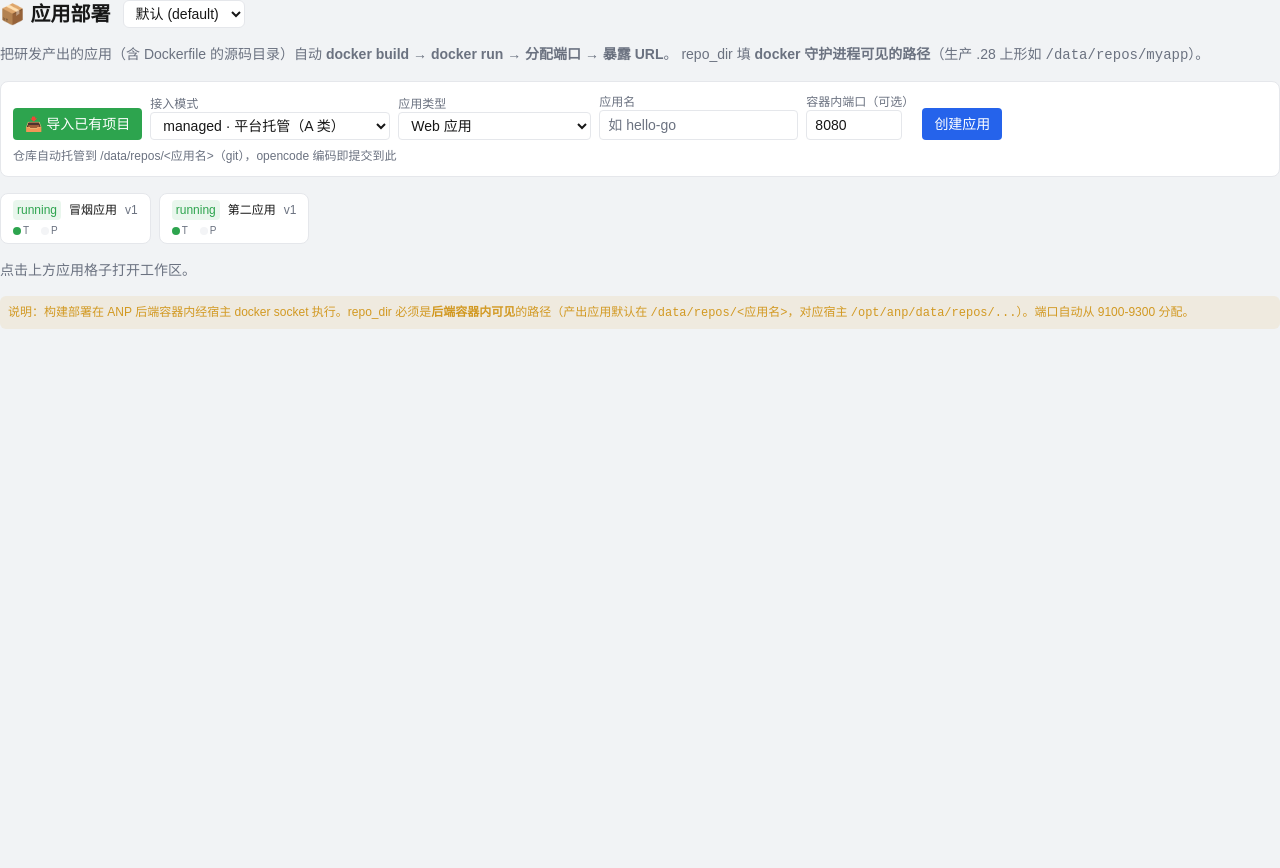
Scenario: ApplicationsPage tab 化壳 › A 开日志后切 B：B 不显示 A 的日志；回 A 再开日志正常
This screenshot has width=1280, height=868.
Expected: the element with test id "overview-bar" is shown, left=0, top=193, right=310, bottom=244
# 开 A tab → 点工具行「日志」（app-tab-panel 工具行按钮）→ 日志面板出现
Click the text "冒烟应用" at (93, 210), box left=69, top=202, right=117, bottom=218
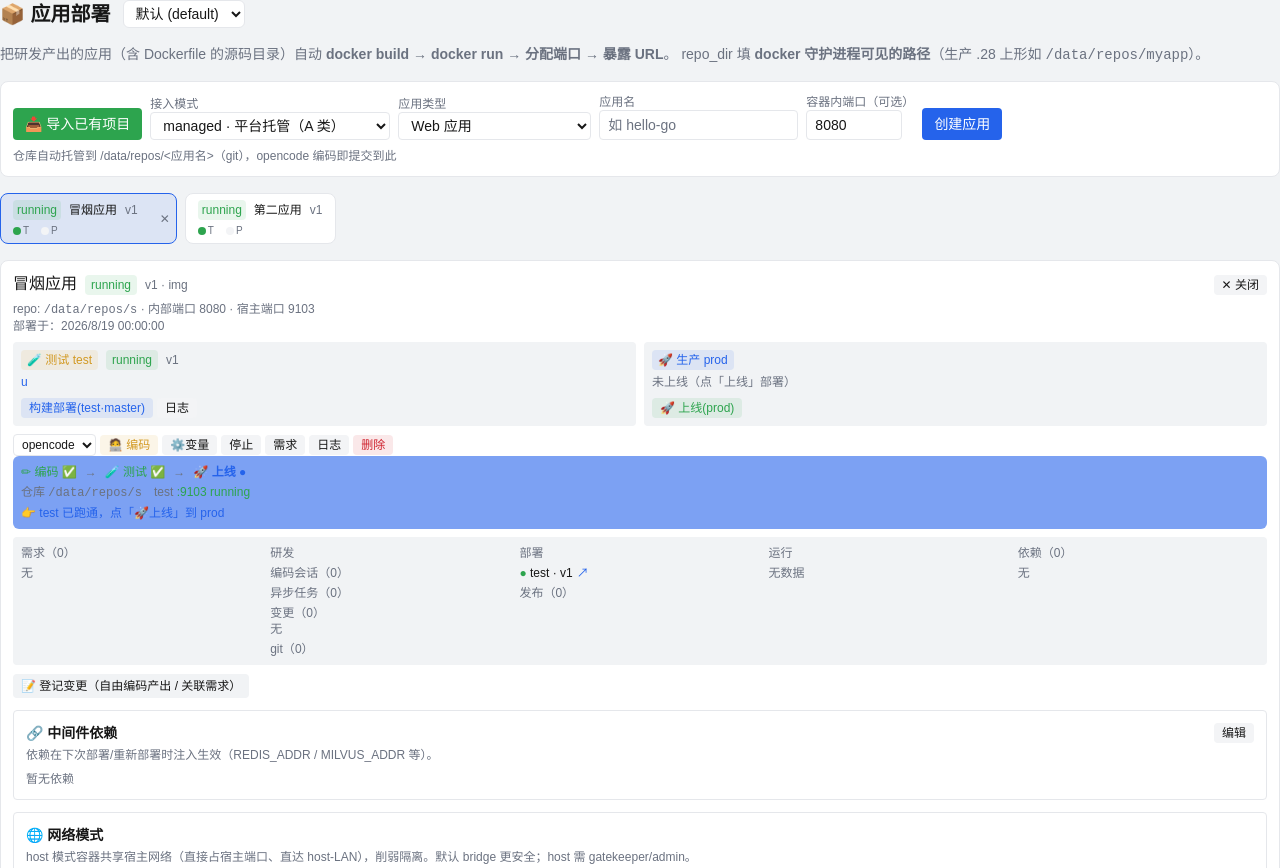
Click the button "日志" below "🧪 测试 test" at (177, 408), box left=157, top=398, right=197, bottom=418
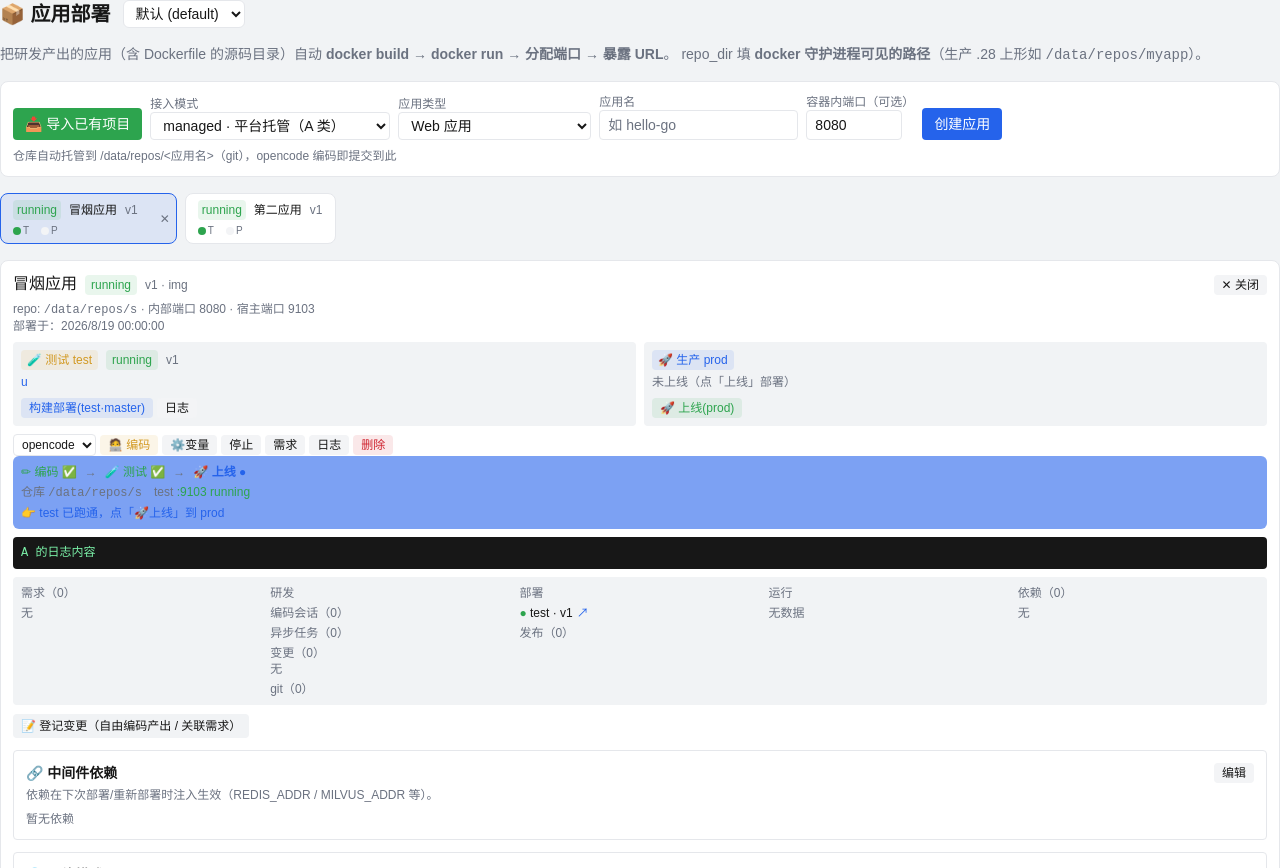
Expected: the text "A 的日志内容" is shown, left=13, top=537, right=1267, bottom=569
# 切 B（点 B 总览格）：A 的日志内容不得残留（面板重挂+展开态已清）
Click the text "第二应用" at (278, 210), box left=254, top=202, right=302, bottom=218
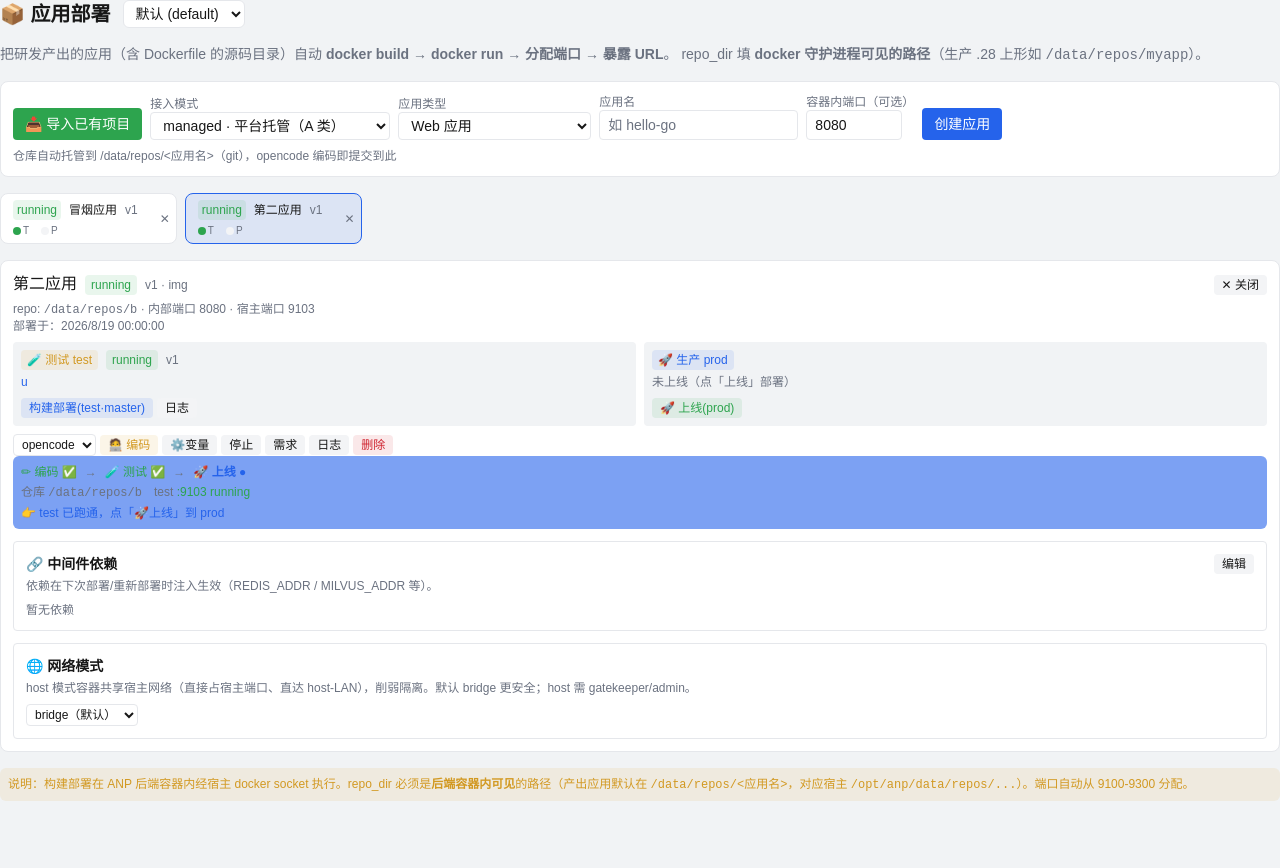
Expected: the text "A 的日志内容" is gone
# 回 A：再点「日志」正常显示 A 的内容
Click the text "冒烟应用" at (93, 210), box left=69, top=202, right=117, bottom=218
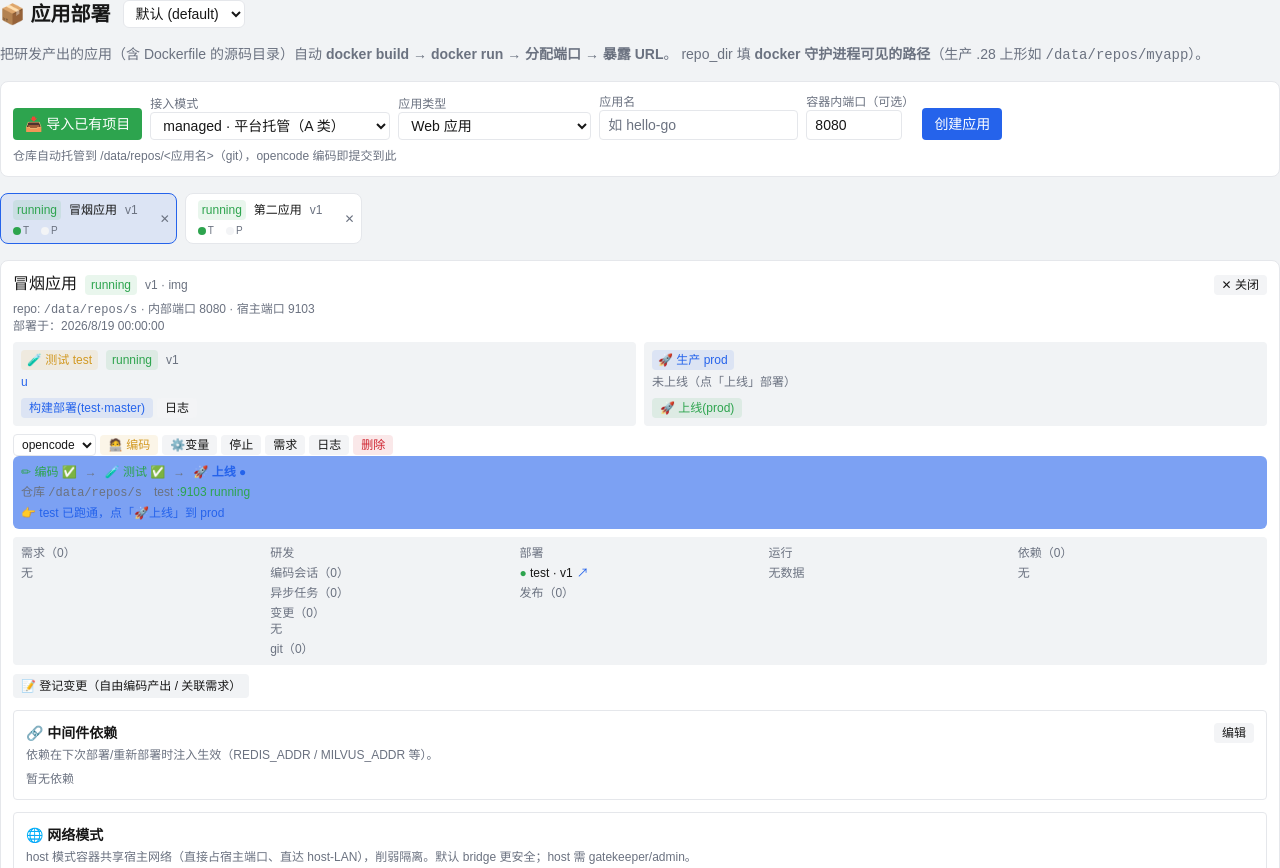
Click the button "日志" below "🧪 测试 test" at (177, 408), box left=157, top=398, right=197, bottom=418
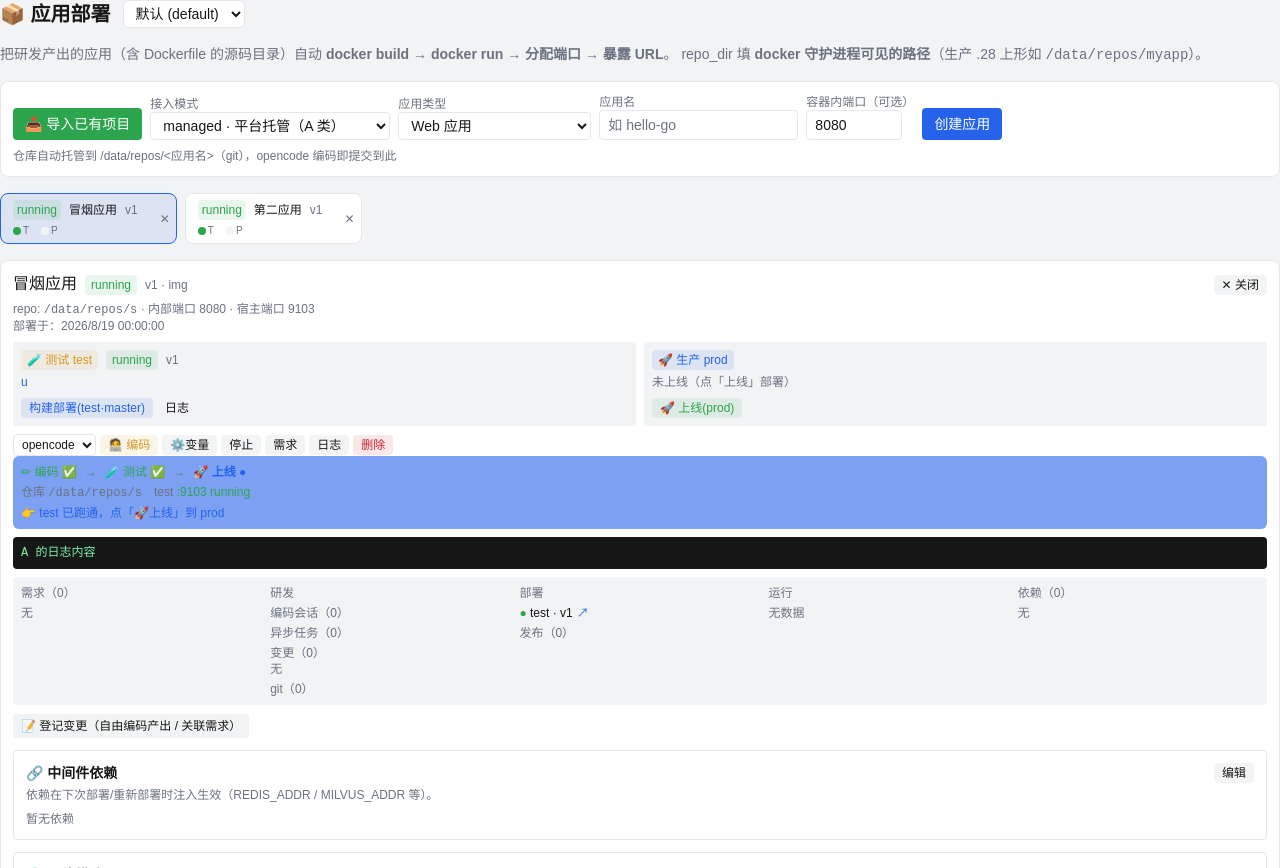
Expected: the text "A 的日志内容" is shown, left=13, top=537, right=1267, bottom=569
